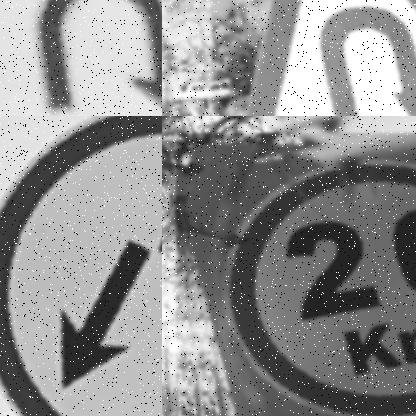Road Divides: (0, 116, 162, 416)
Speed Limit -20 kmph-: (176, 133, 416, 416)
U-Turn: (0, 0, 162, 116)
